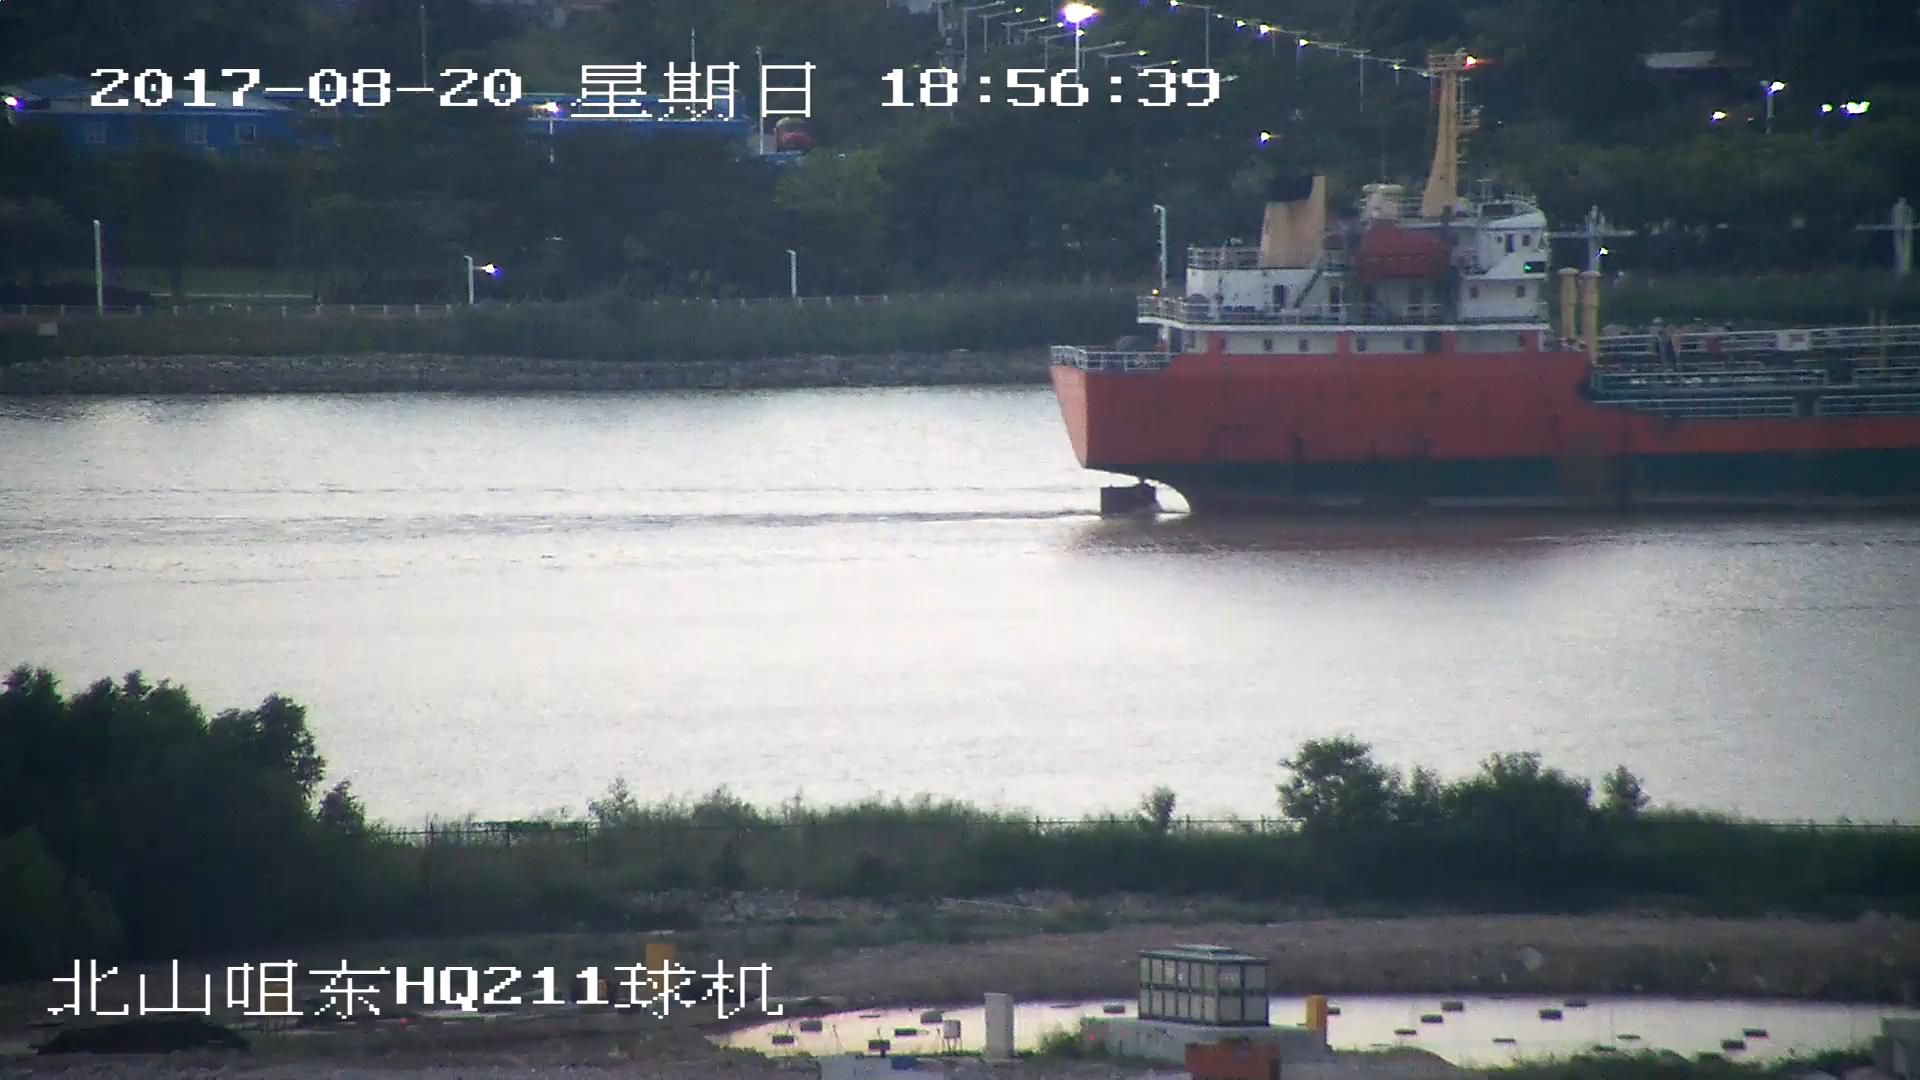general cargo ship: (1035, 112, 1920, 500)
